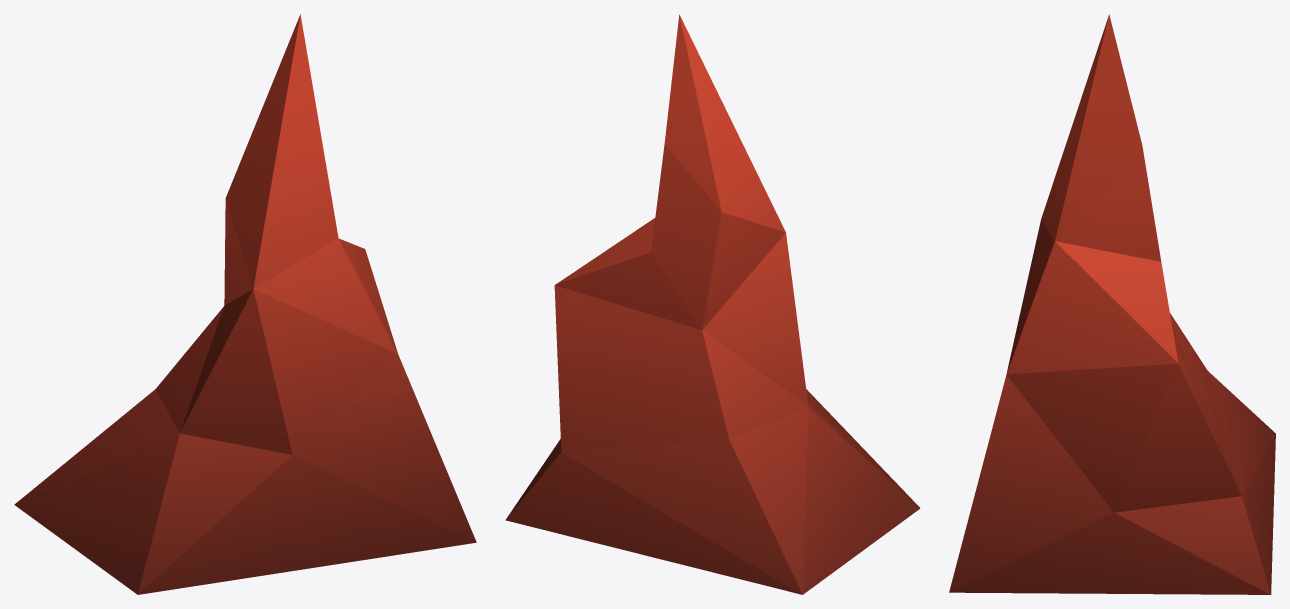
Rendered from Spiky_Rock_4.fbx.
The picture shows the model from 3 angles, left to right: view 1: azimuth 30°, elevation 25°; view 2: azimuth 150°, elevation 25°; view 3: azimuth 270°, elevation 25°; orthographic projection. The views are drawn at different scales.
Visible parts, largest first — view 1: Spiky_Rock_4; view 2: Spiky_Rock_4; view 3: Spiky_Rock_4.
Boxes of the visible parts, x1=… form: Spiky_Rock_4: x1=14, y1=14, x2=476, y2=594; Spiky_Rock_4: x1=505, y1=14, x2=920, y2=594; Spiky_Rock_4: x1=949, y1=14, x2=1275, y2=594.
Bounding box in the file's own units: 150 × 229 × 129.
Materials: 1 (1 with a texture image).
